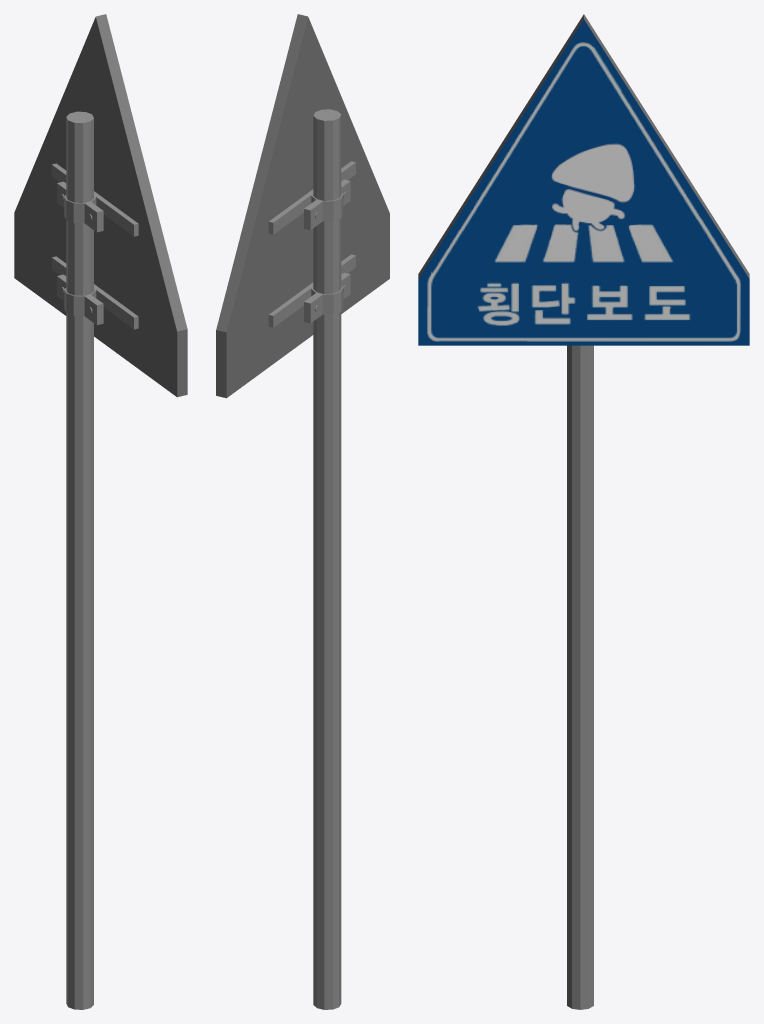
File: obj_sign_9.fbx
3 renders of one model, left to right at view 1: azimuth 30°, elevation 25°; view 2: azimuth 150°, elevation 25°; view 3: azimuth 270°, elevation 25°, orthographic.
Parts seen in each view (by area): view 1: obj_sign_9; view 2: obj_sign_9; view 3: obj_sign_9.
Part boxes in pixels (bbox=[...]): obj_sign_9: bbox=[14, 14, 187, 1009]; obj_sign_9: bbox=[216, 14, 389, 1009]; obj_sign_9: bbox=[418, 14, 749, 1009].
Bounding box in the file's own units: 0.1083 × 2.45 × 0.7348.
Materials: 1 (1 with a texture image).
